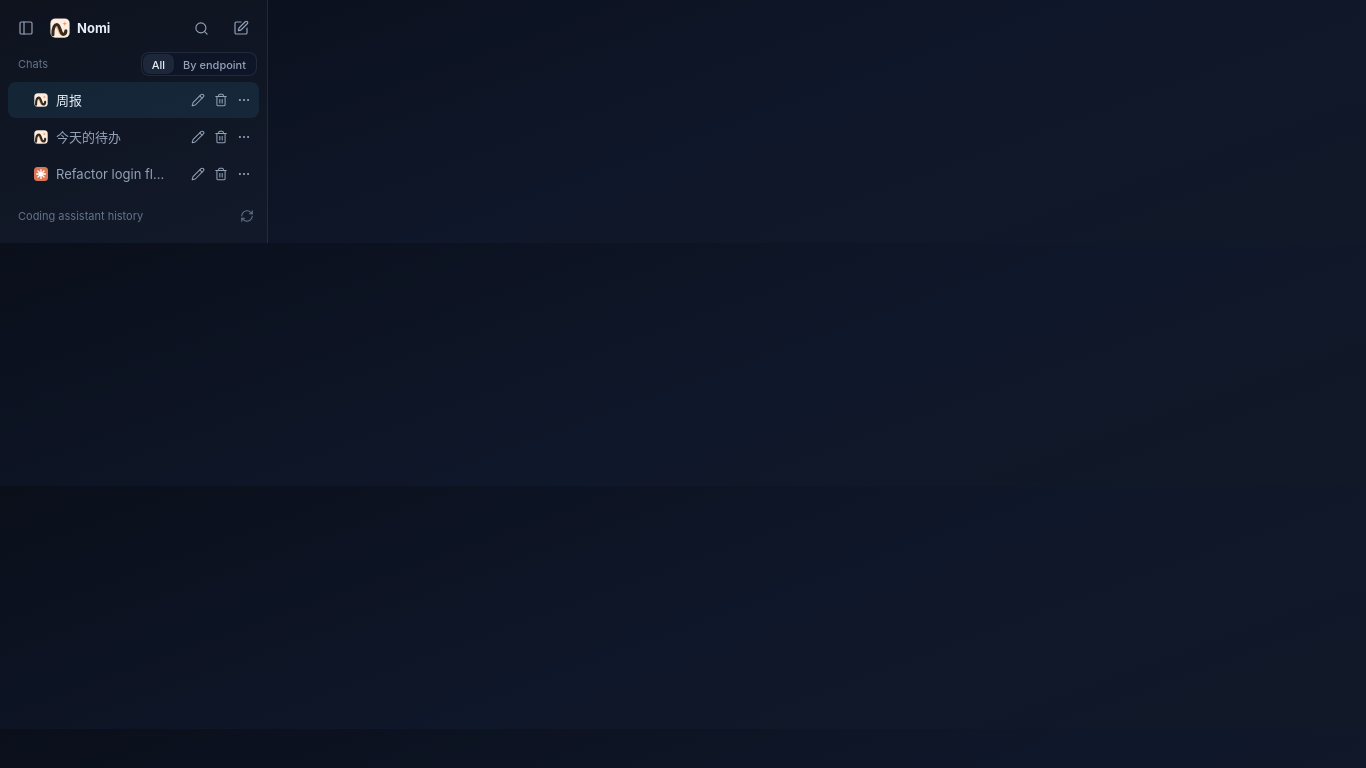
Test: sidebar row actions › rename pen starts inline editing: Enter commits, Esc cancels
Click the 2nd button with test id "row-rename" at (198, 137), box [187,126,209,148]
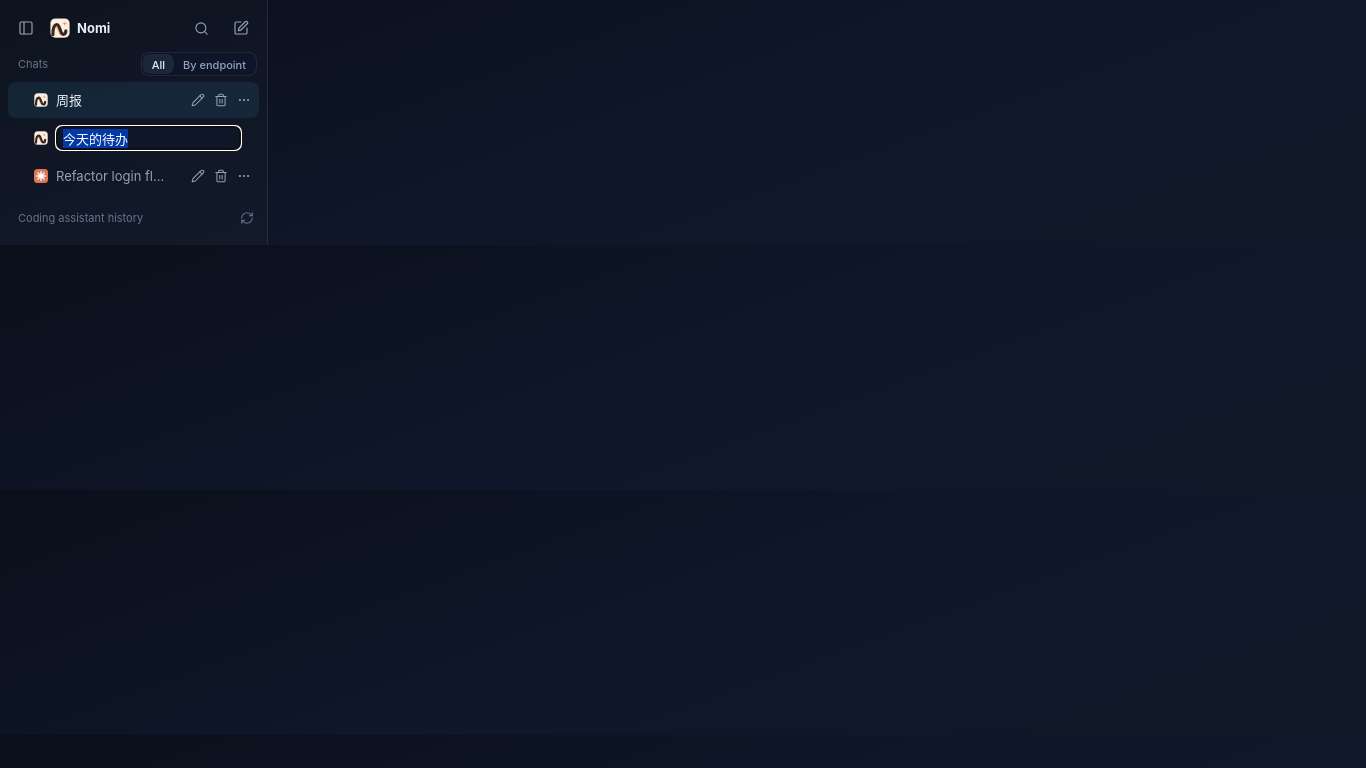
Replace the text in the field with test id "conversation-rename-input" with "新名字" at (148, 138), box [56,126,241,150]
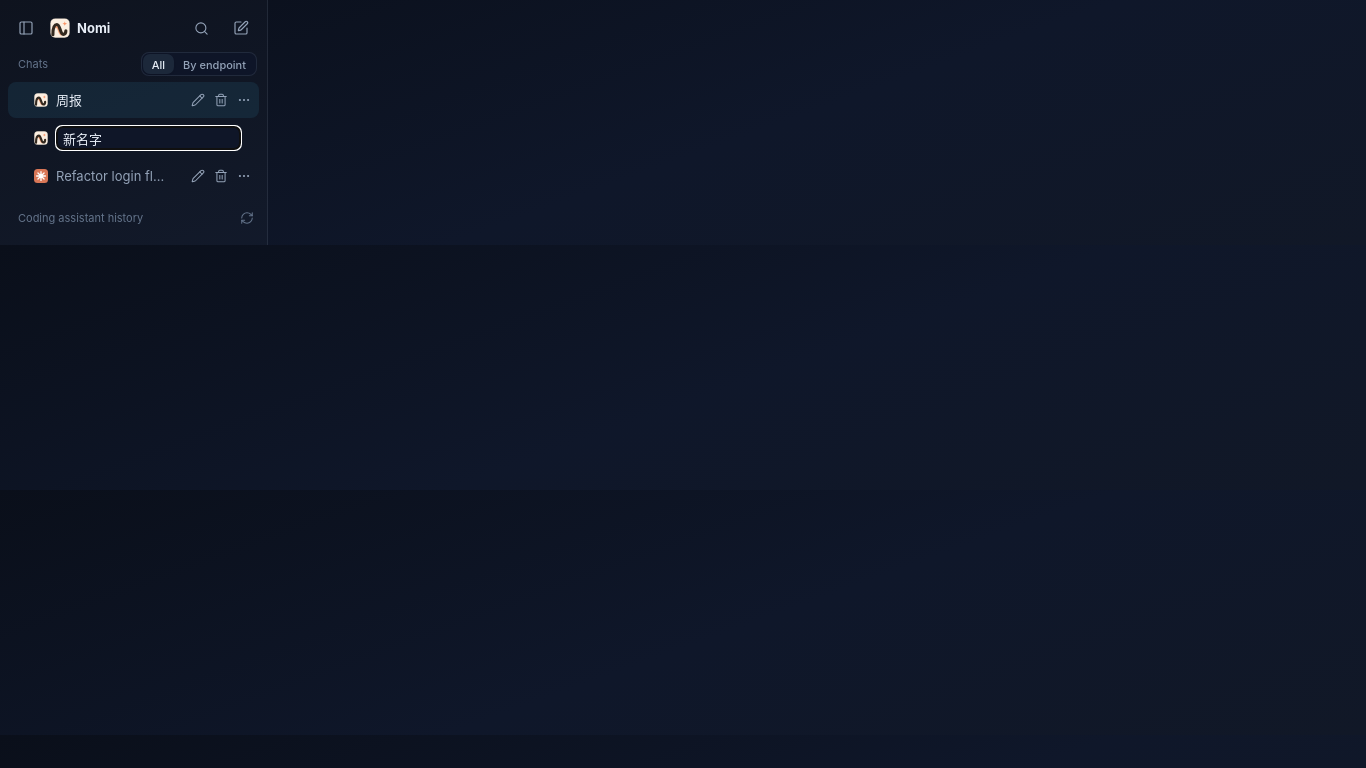
Press Enter in the field with test id "conversation-rename-input", box [56,126,241,150]
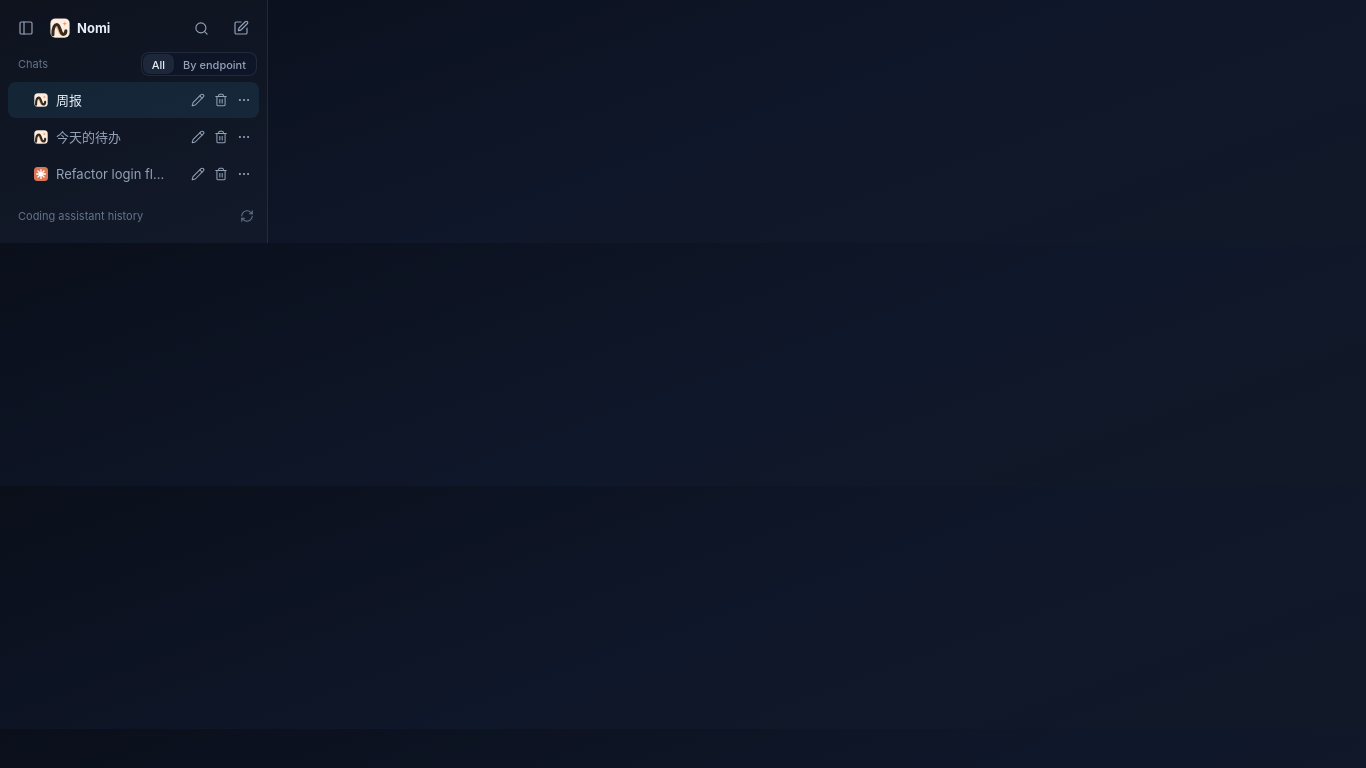
Expected: the field with test id "conversation-rename-input" is gone
Click the 2nd button with test id "row-rename" at (198, 137), box [187,126,209,148]
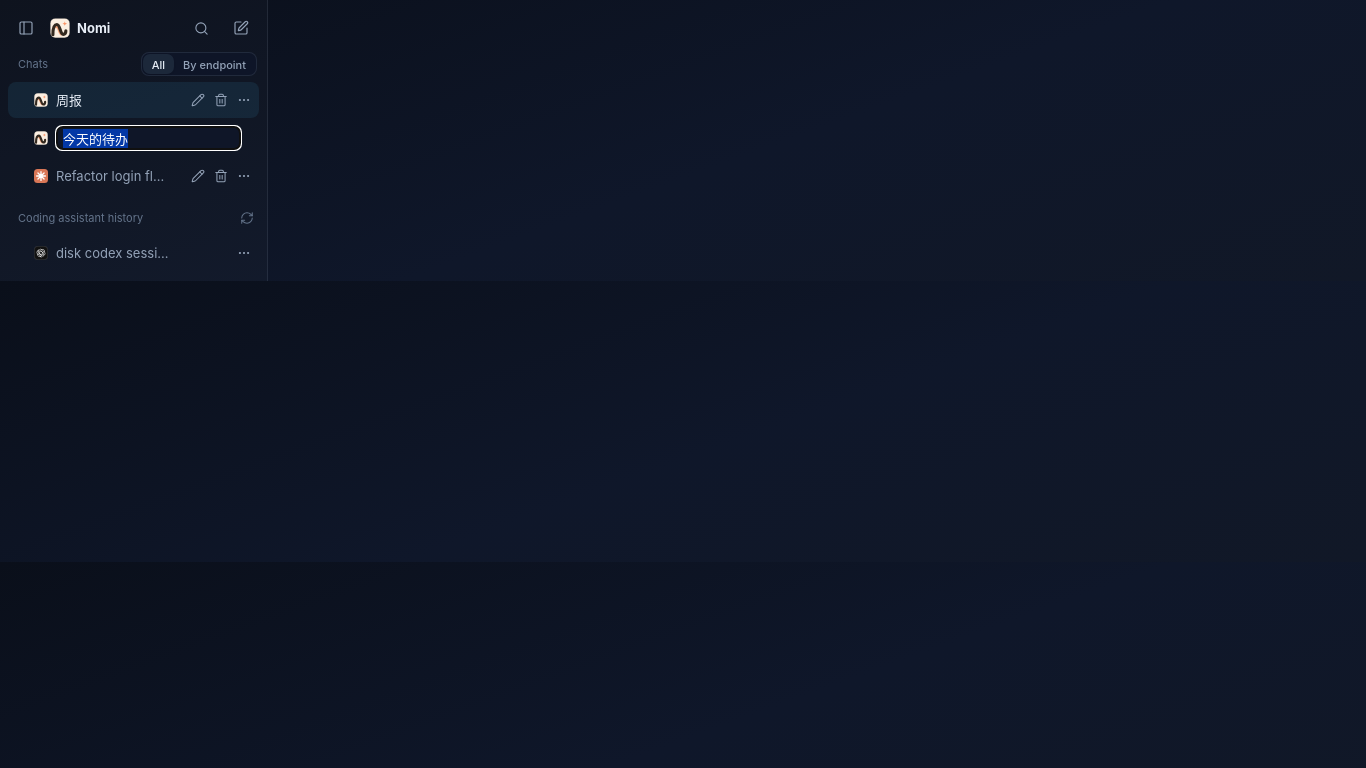
Replace the text in the field with test id "conversation-rename-input" with "不要" at (148, 138), box [56,126,241,150]
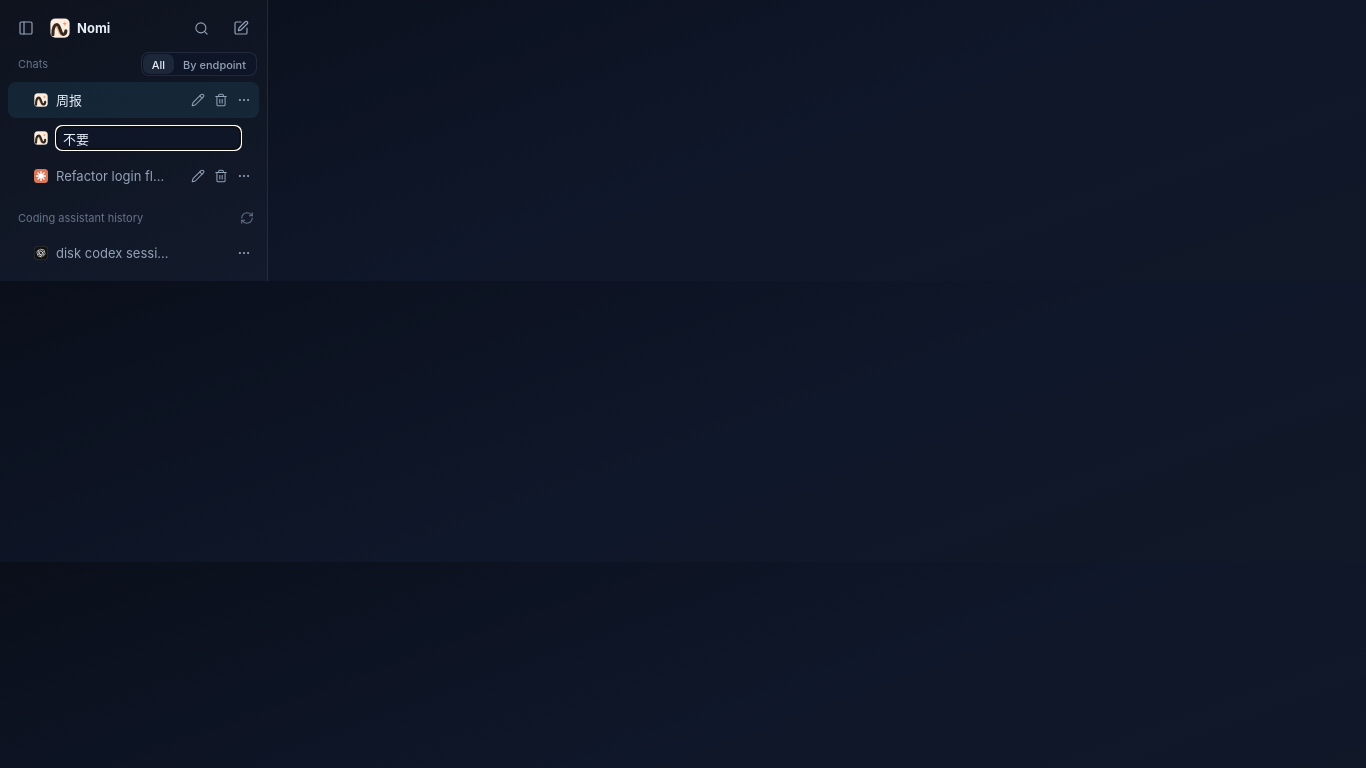
Press Escape in the field with test id "conversation-rename-input", box [56,126,241,150]
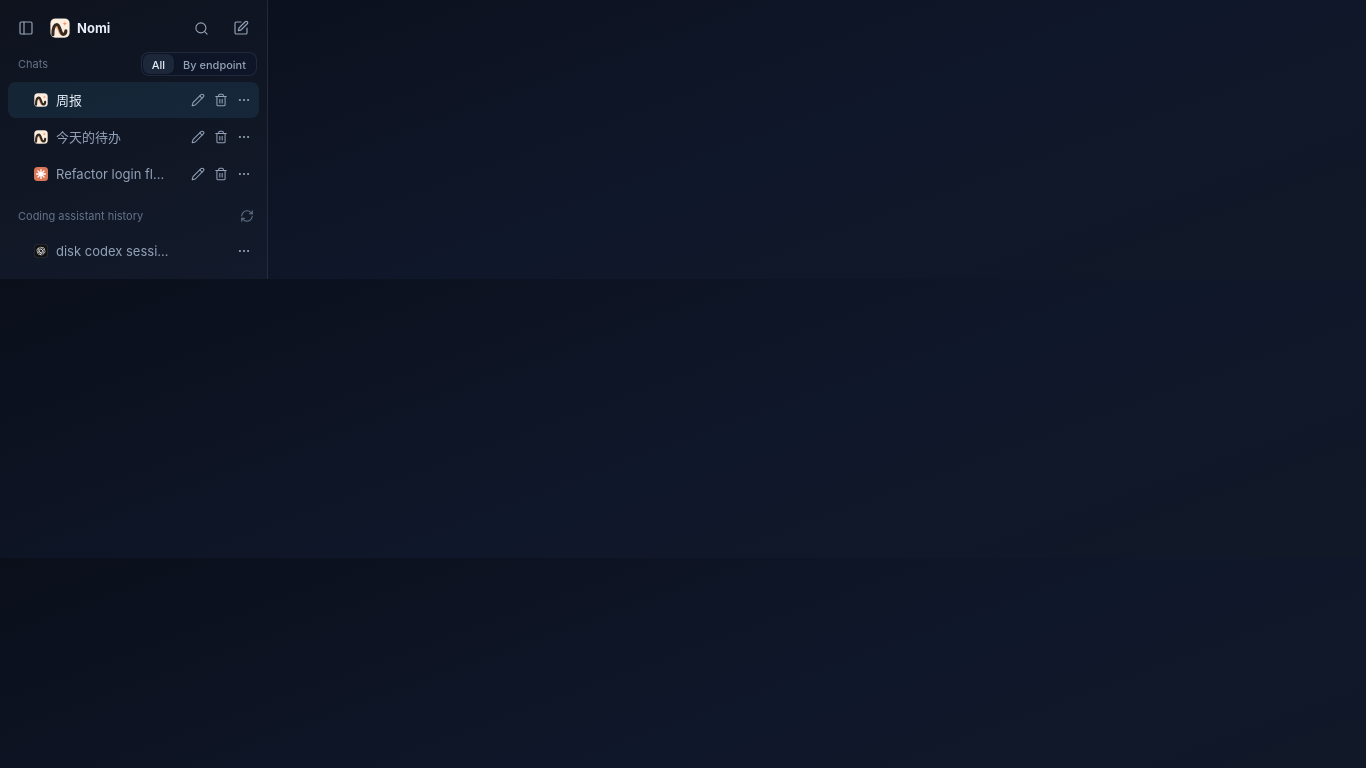
Expected: the field with test id "conversation-rename-input" is gone
